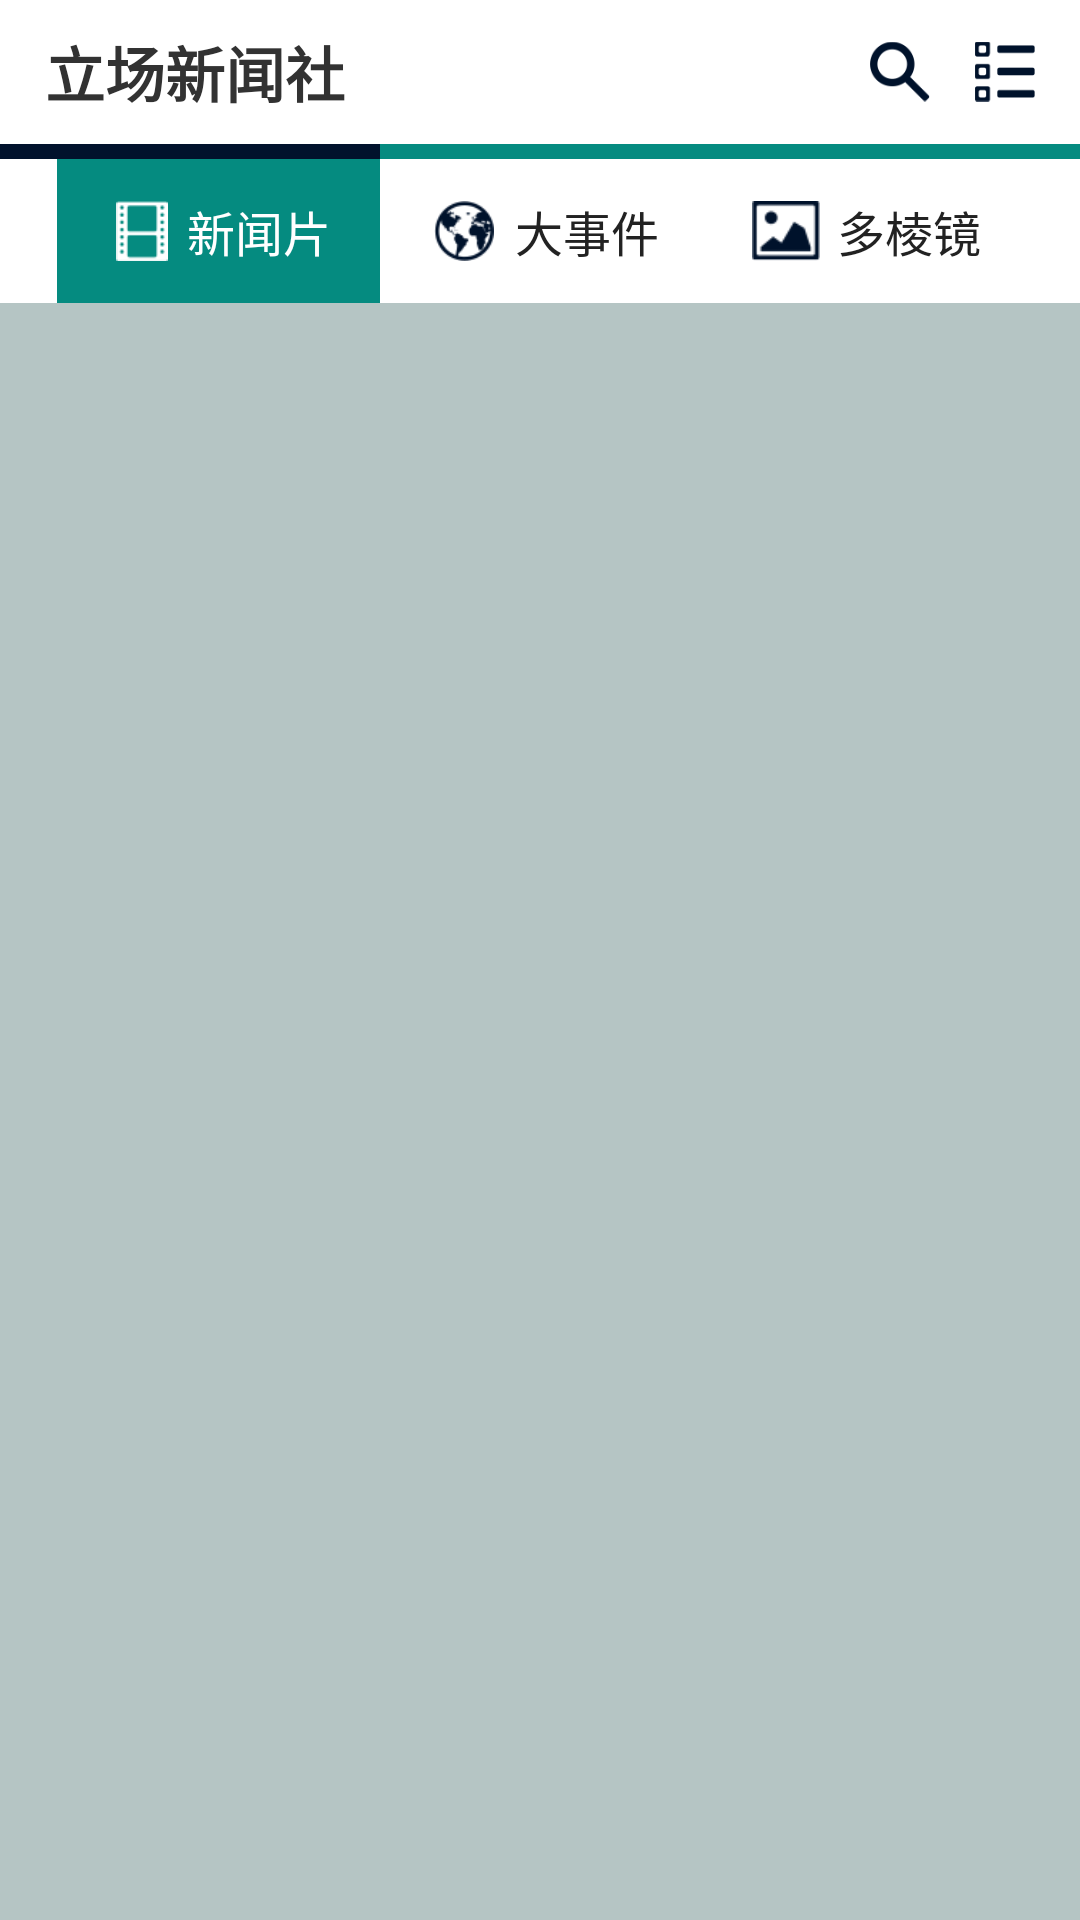

Icons on this 1080w x 1920h Android screen, each with its box as (x1, y1, x2, y2):
liebiao: (975, 42, 1035, 102)
photo down: (752, 201, 820, 260)
seach: (870, 42, 930, 102)
